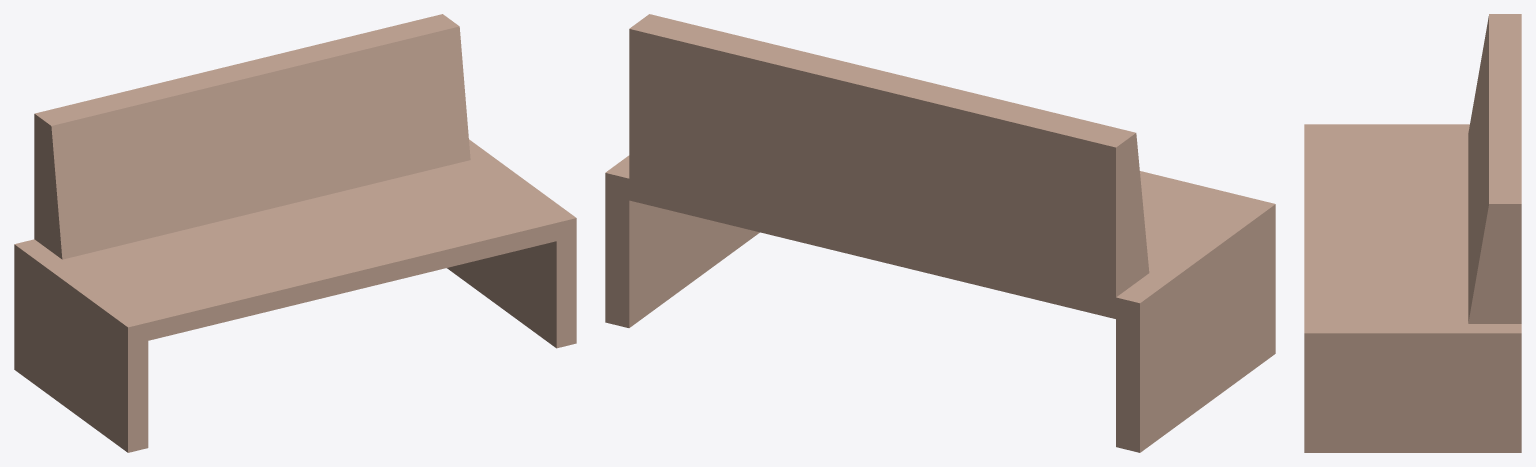
Rendered from Bench.glb.
The picture shows the model from 3 angles, left to right: view 1: azimuth 30°, elevation 25°; view 2: azimuth 150°, elevation 25°; view 3: azimuth 270°, elevation 25°; orthographic projection. The views are drawn at different scales.
Parts seen in each view (by area): view 1: Bench1; view 2: Bench1; view 3: Bench1.
Boxes of the visible parts, bbox=[...] form: Bench1: bbox=[14, 14, 576, 452]; Bench1: bbox=[605, 14, 1275, 452]; Bench1: bbox=[1304, 14, 1521, 452].
Size of the model in its own units: 1.28 by 0.6866 by 0.5637.
Materials: 1 (1 with a texture image).
